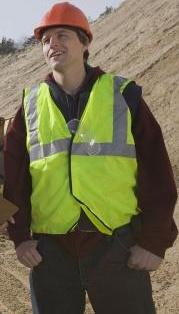hard-hat: (34, 1, 92, 43)
vest: (0, 98, 66, 266)
